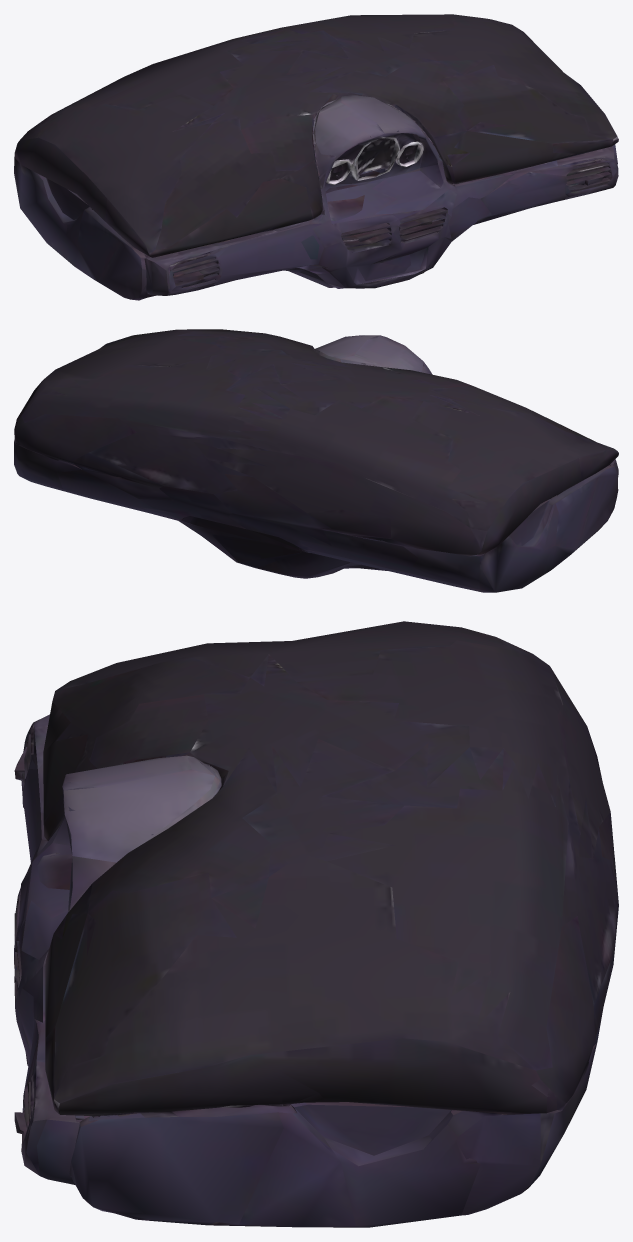
File: planche.glb
The picture shows the model from 3 angles, top to bottom: view 1: azimuth 30°, elevation 25°; view 2: azimuth 150°, elevation 25°; view 3: azimuth 270°, elevation 25°; orthographic projection. The views are drawn at different scales.
Bounding box in the file's own units: 1.89 × 0.7006 × 1.13.
Materials: 1 (1 with a texture image).
